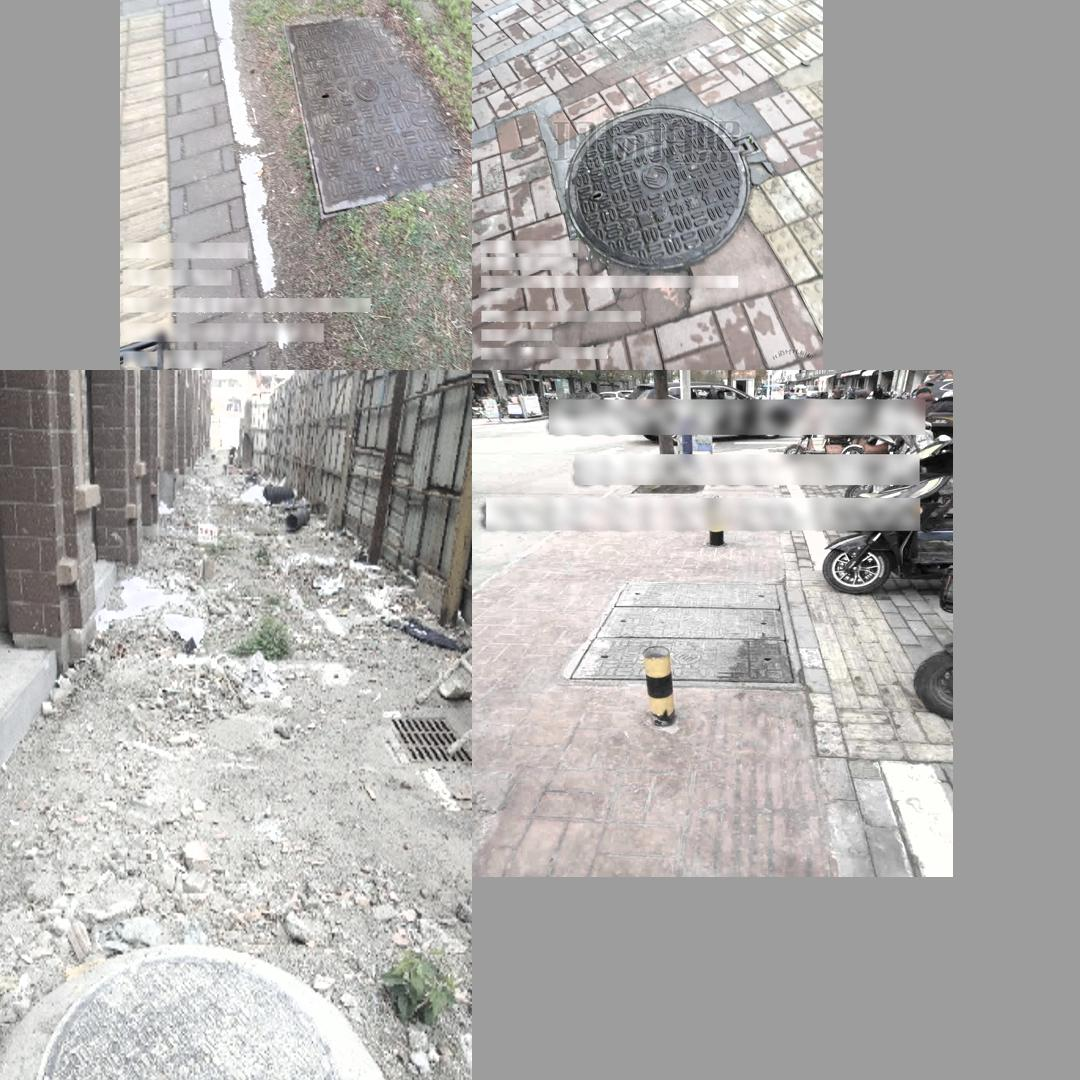good: (33, 956, 344, 1080), (285, 16, 464, 217), (565, 105, 763, 270), (572, 573, 801, 680)
